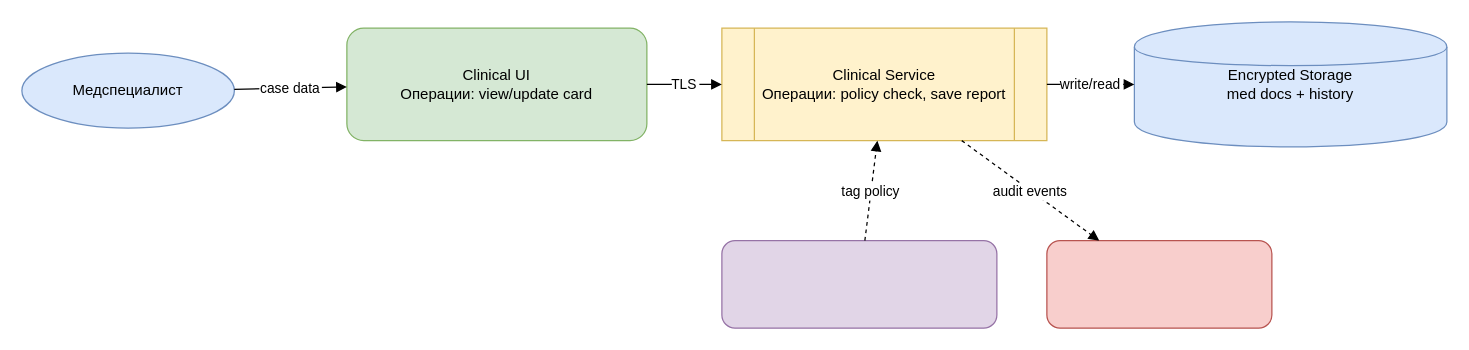
This 1469x350 diagram has some shape labels left out. The box of each missing label's shape, as (x1, y1, x2, y2) in pixels:
Audit + SIEM: (1046, 239, 1272, 328)
Policy/Tagging\nSPECIAL_MEDICAL: (721, 239, 997, 328)
